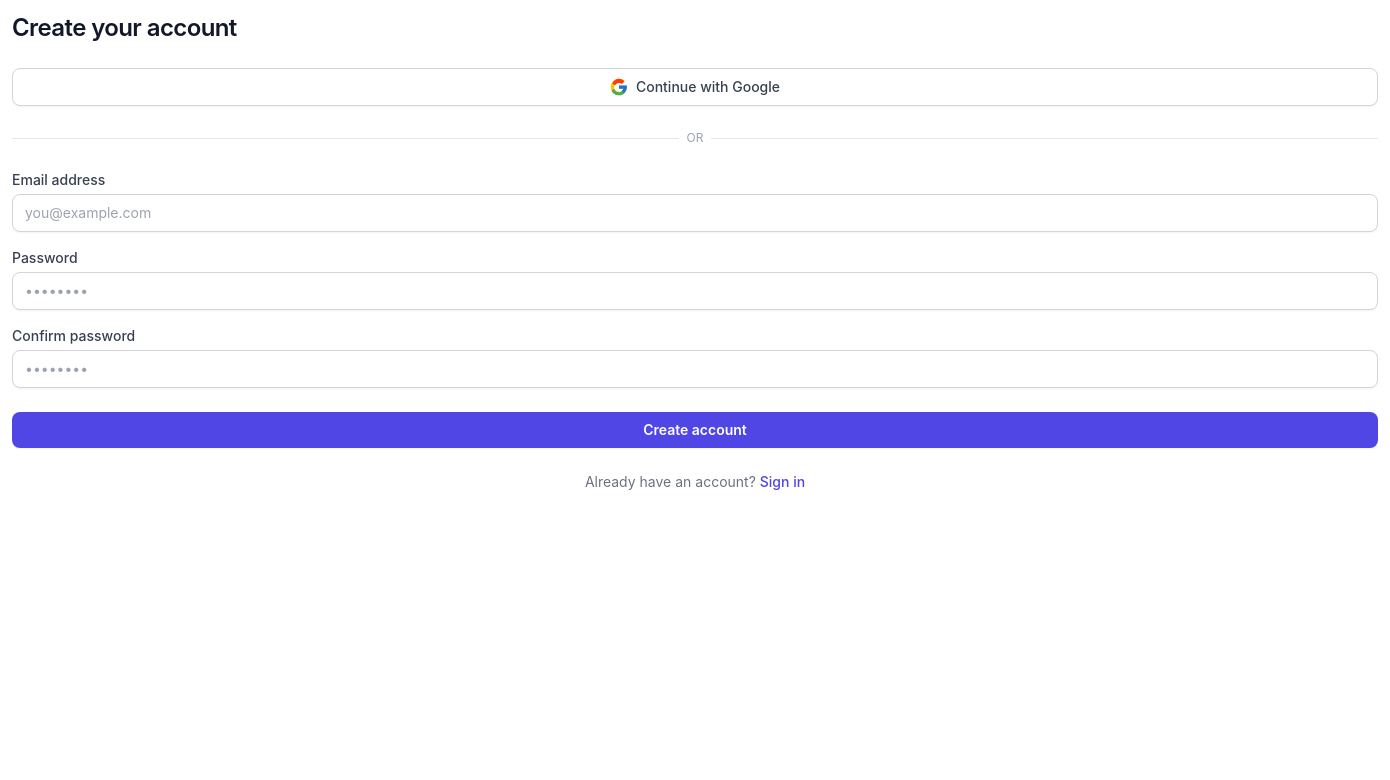
Test: RegisterPage › shows error if form is submitted with weak password
Type "weak" into the password field labelled "Password" at [695, 291], box [12,272,1378,310]
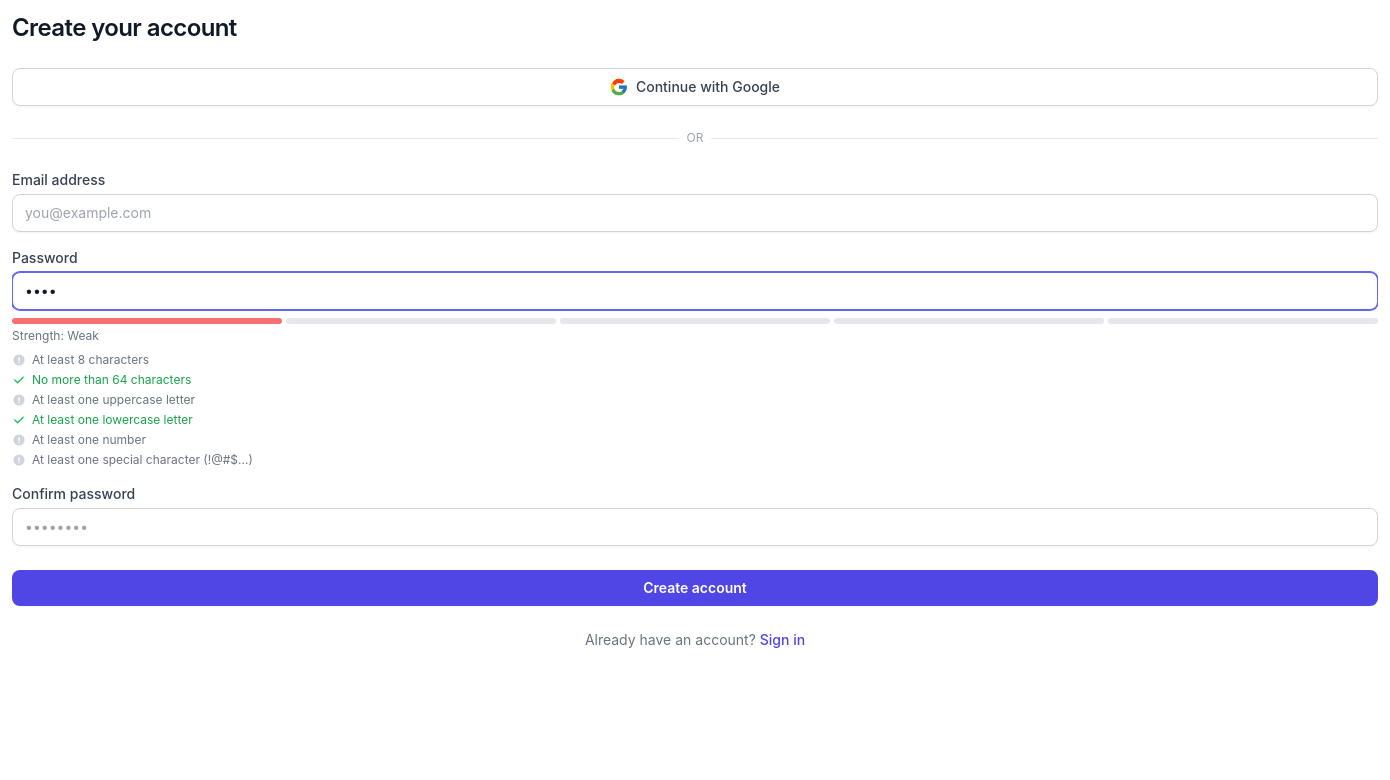
Type "weak" into the password field labelled "Confirm password" at [695, 527], box [12,508,1378,546]
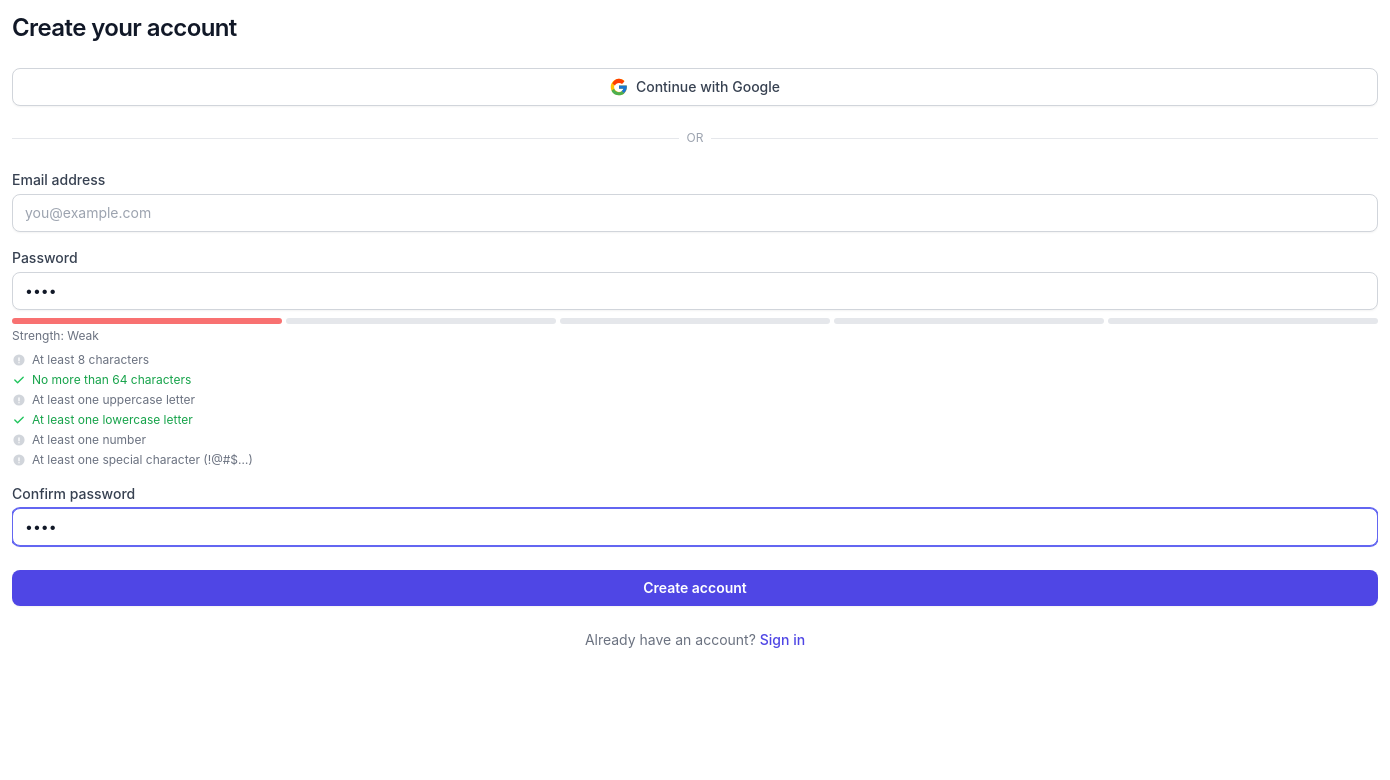
Click the button "Create account" at [695, 588], box [12,570,1378,606]
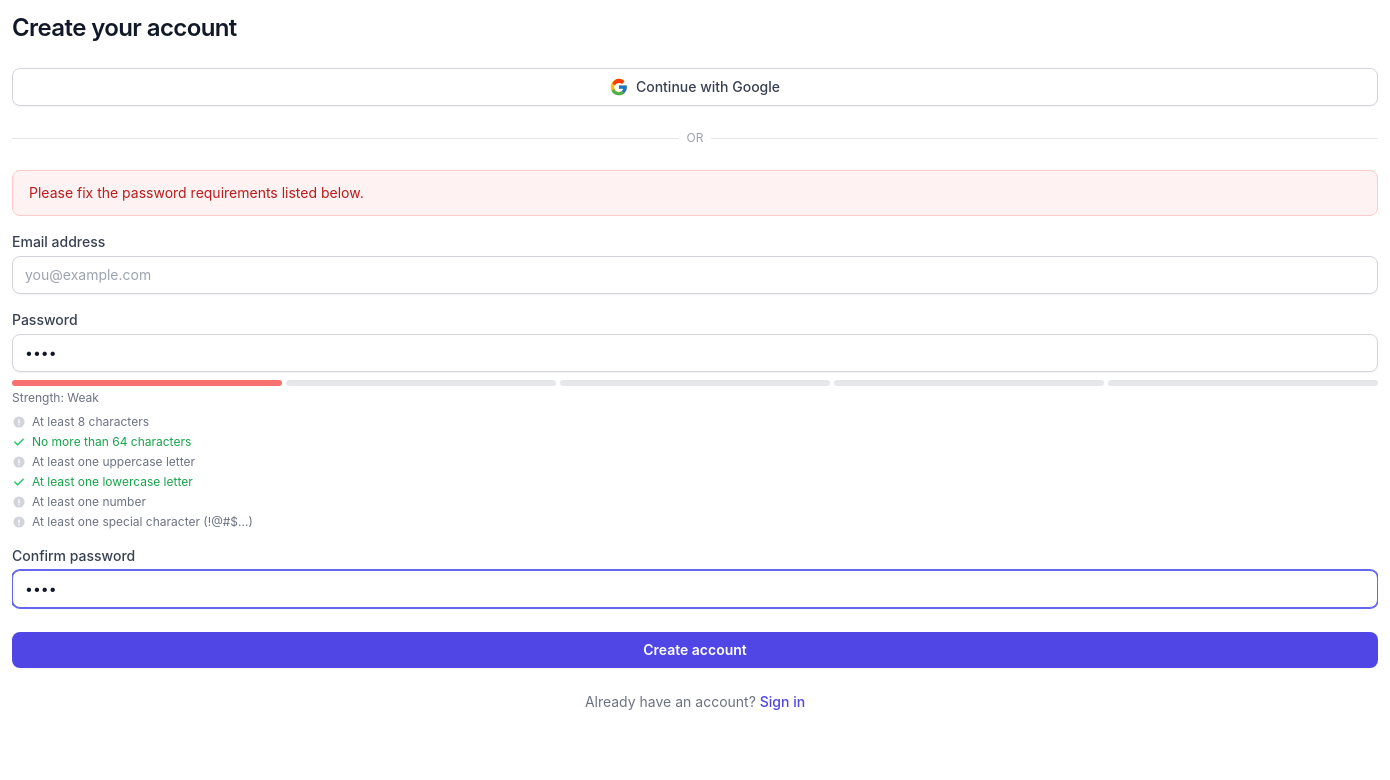
Check: the message shows "fix the password requirements", box [29,184,364,201]
